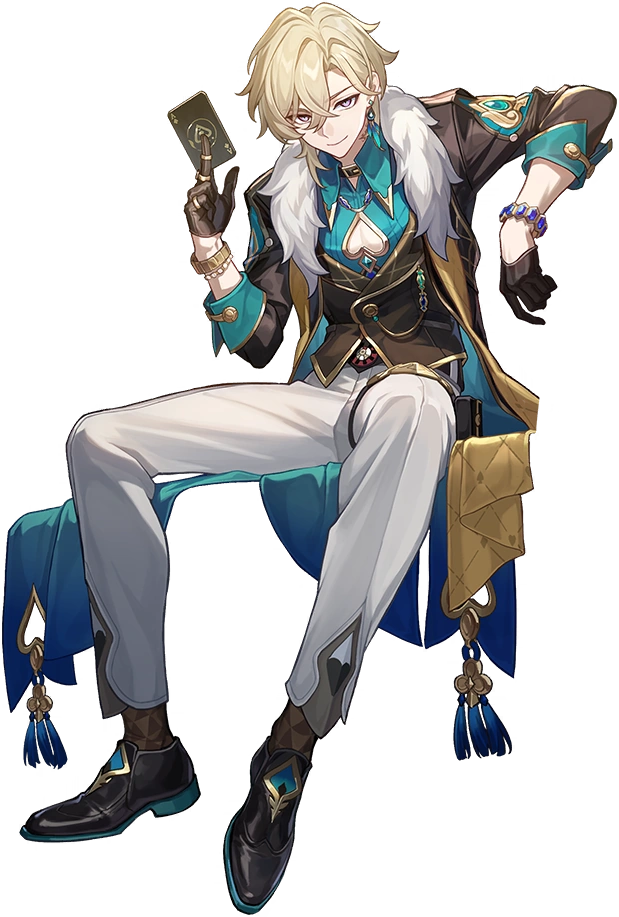Aventurine: (482, 98, 516, 113), (414, 267, 430, 293), (366, 100, 376, 119)
